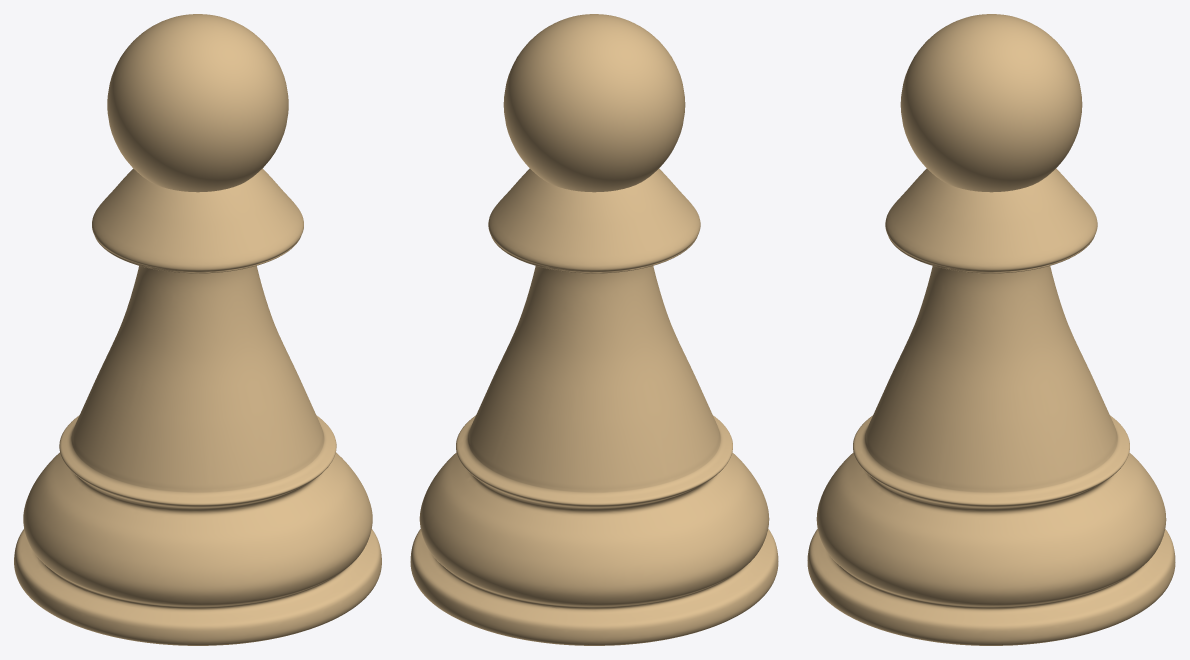
The model's file is pawn.glb.
3 renders of one model, left to right at view 1: azimuth 30°, elevation 25°; view 2: azimuth 150°, elevation 25°; view 3: azimuth 270°, elevation 25°, orthographic.
Parts seen in each view (by area): view 1: Pawn.002; view 2: Pawn.002; view 3: Pawn.002.
Boxes of the visible parts, left/top/right/bottom form: Pawn.002: left=14, top=14, right=381, bottom=645; Pawn.002: left=410, top=14, right=778, bottom=645; Pawn.002: left=807, top=14, right=1175, bottom=645.
Size of the model in its own units: 0.0302 by 0.0504 by 0.0302.
